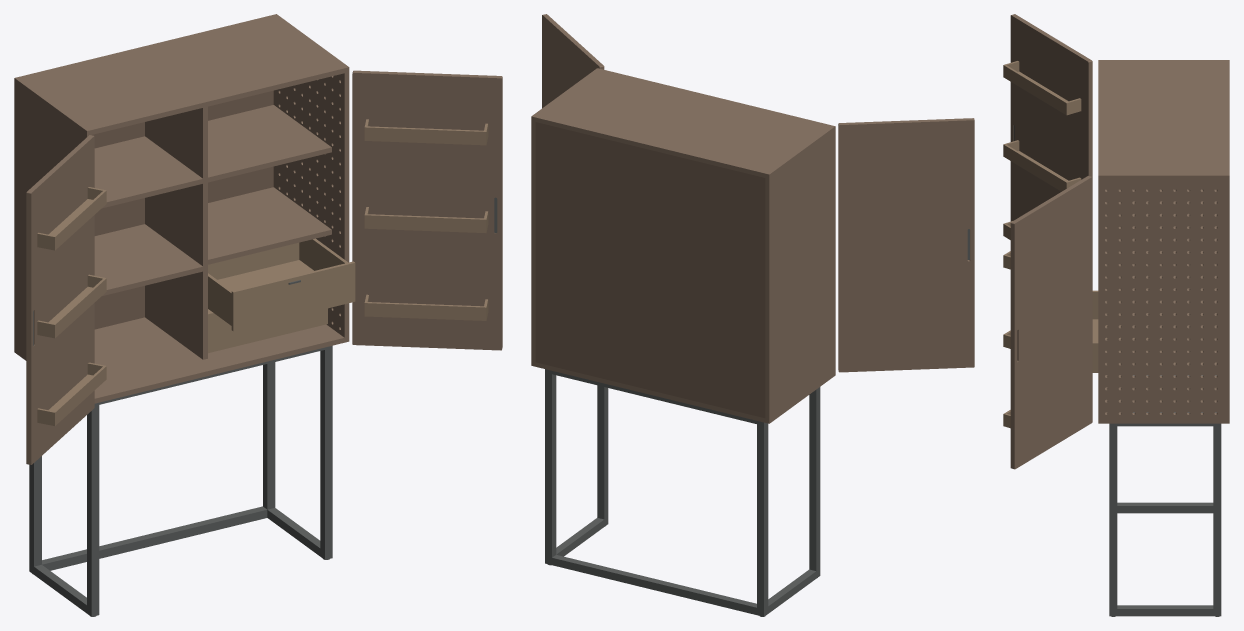
The model's file is open.glb.
3 views of the same model, side by side, from view 1: azimuth 30°, elevation 25°; view 2: azimuth 150°, elevation 25°; view 3: azimuth 270°, elevation 25° (orthographic). The views are drawn at different scales.
Visible parts, largest first — view 1: B31-door, B01-top, B30-door, B05-divider, B03-right-pegboard, B00-bottom, B02-left-side, B04-back, B21-right-shelf, B20-right-shelf, D1-face, B10-left-shelf (+20 smaller); view 2: B04-back, B30-door, B02-left-side, B01-top, B31-door, A2-low-rear, A0-post-0-1, A0-post-1-1, A0-post-0-0, A0-post-1-0, B00-bottom, B03-right-pegboard (+3 smaller); view 3: B03-right-pegboard, B31-door, B01-top, B30-door, A0-post-1-0, A0-post-1-1, A2-low-depth-1, A2-low-depth-0, T02-lip, T01-lip, B00-bottom, A1-depth-1 (+1 smaller).
Boxes of the visible parts, box(x1,y1,x2,y2) form: B31-door: box(352, 70, 502, 350); B01-top: box(14, 14, 349, 135); B30-door: box(26, 135, 94, 464); B05-divider: box(145, 106, 207, 359); B03-right-pegboard: box(273, 72, 349, 337); B00-bottom: box(14, 317, 349, 403); B02-left-side: box(14, 83, 91, 355); B04-back: box(92, 90, 273, 329); B21-right-shelf: box(208, 105, 331, 182); B20-right-shelf: box(208, 187, 331, 264); D1-face: box(231, 261, 355, 331); B10-left-shelf: box(94, 224, 202, 295); B04-back: box(535, 122, 765, 418); B30-door: box(838, 118, 974, 372); B02-left-side: box(765, 131, 835, 419); B01-top: box(531, 68, 835, 178); B31-door: box(542, 14, 604, 108); A2-low-rear: box(552, 554, 756, 614); A0-post-0-1: box(757, 423, 768, 616); A0-post-1-1: box(545, 372, 556, 564); A0-post-0-0: box(809, 387, 820, 578); A0-post-1-0: box(597, 385, 608, 526); B00-bottom: box(531, 361, 835, 423); B03-right-pegboard: box(531, 121, 535, 362); B03-right-pegboard: box(1098, 180, 1229, 418); B31-door: box(1010, 176, 1092, 469); B01-top: box(1098, 60, 1229, 179); B30-door: box(1010, 14, 1092, 221); A0-post-1-0: box(1109, 426, 1117, 616); A0-post-1-1: box(1213, 426, 1221, 616); A2-low-depth-1: box(1117, 605, 1213, 616); A2-low-depth-0: box(1117, 502, 1213, 513); T02-lip: box(1003, 64, 1068, 112); T01-lip: box(1003, 144, 1068, 190); B00-bottom: box(1098, 375, 1229, 423); A1-depth-1: box(1109, 423, 1221, 426).
Size of the model in its own units: 1.82 by 1.8 by 0.8272.
